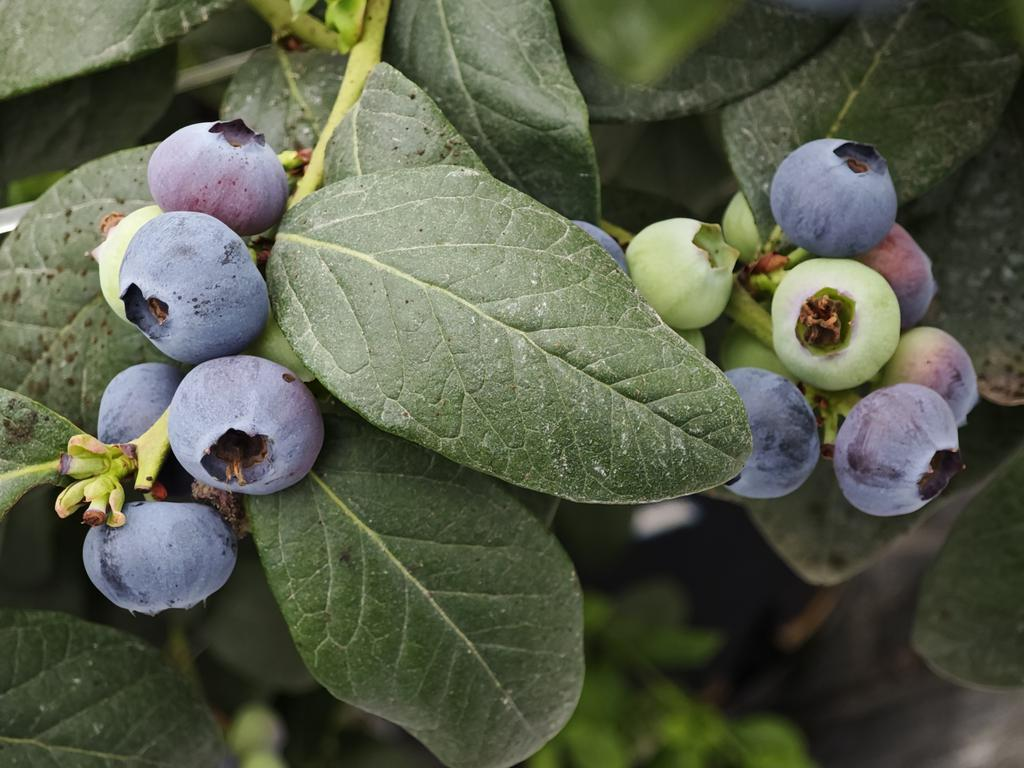RipeBlueBerry: (117, 209, 269, 361), (83, 504, 234, 616), (836, 388, 959, 518), (773, 136, 899, 257), (148, 114, 289, 221)
UnripeBlueBerry: (172, 354, 320, 499), (773, 251, 901, 388), (629, 212, 739, 332)
